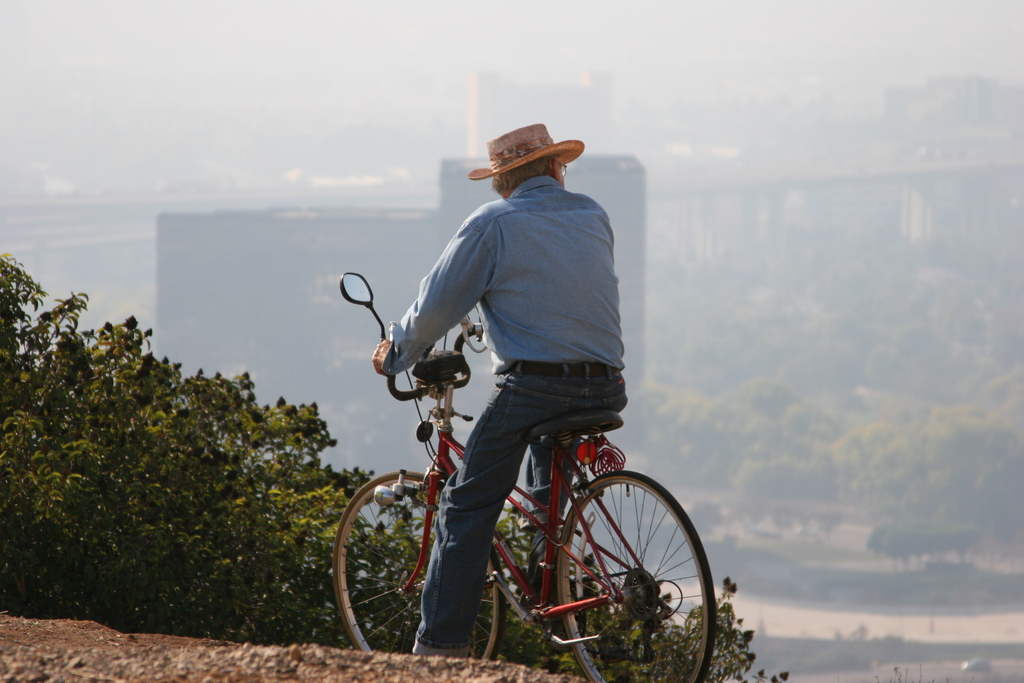Bike_away: (263, 259, 831, 683)
